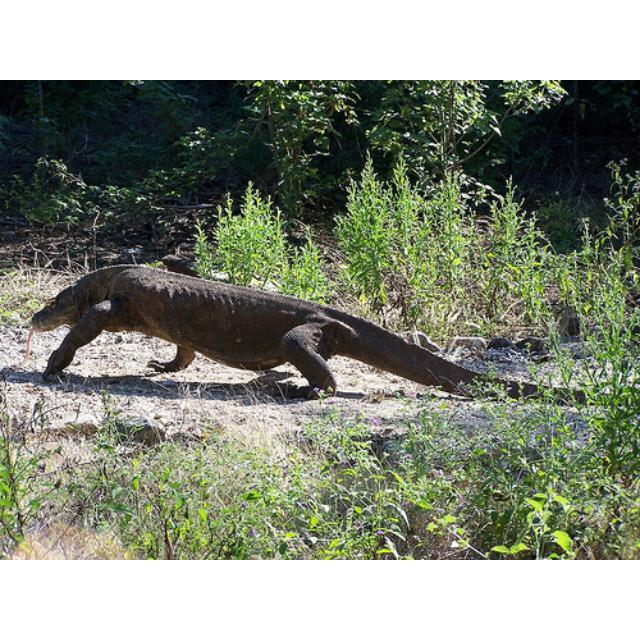KomodoDragon: (27, 261, 637, 406)
